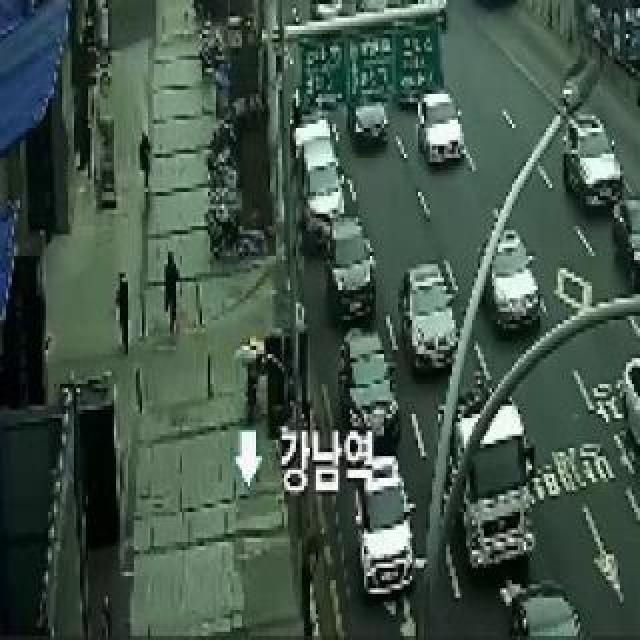truck: (445, 386, 541, 558)
